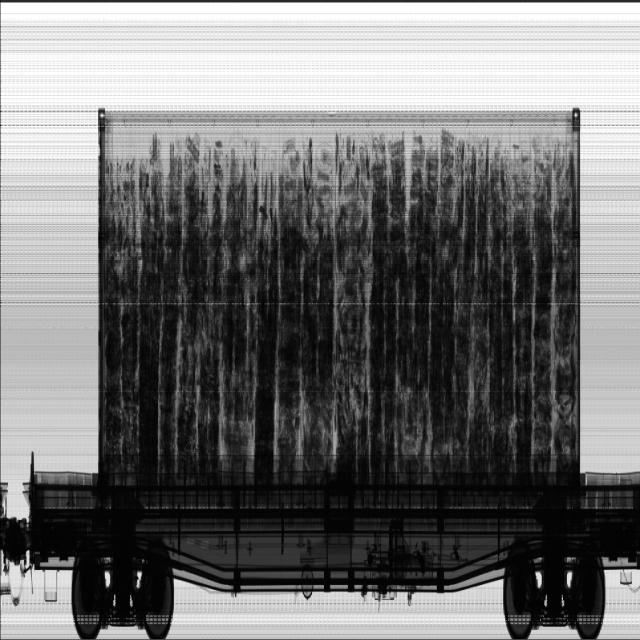office supplies: (177, 190, 221, 481)
tools: (135, 315, 161, 491), (253, 337, 275, 486)
toys: (335, 140, 374, 410)
